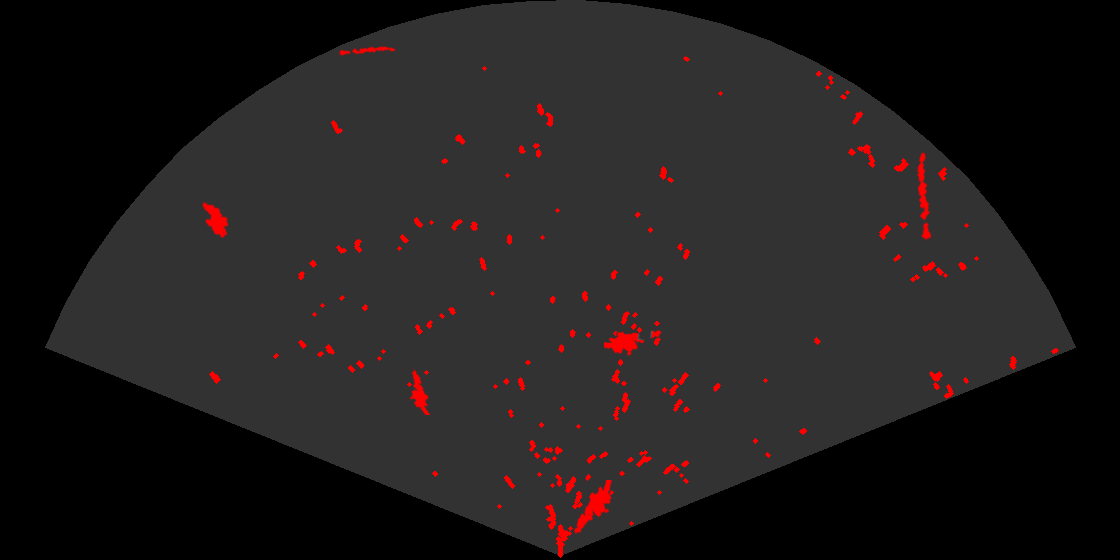AUV: (201, 201, 230, 240)
chain: (915, 151, 933, 241), (338, 45, 396, 57)
frogman: (573, 480, 614, 536), (604, 329, 662, 358), (408, 368, 432, 415)
